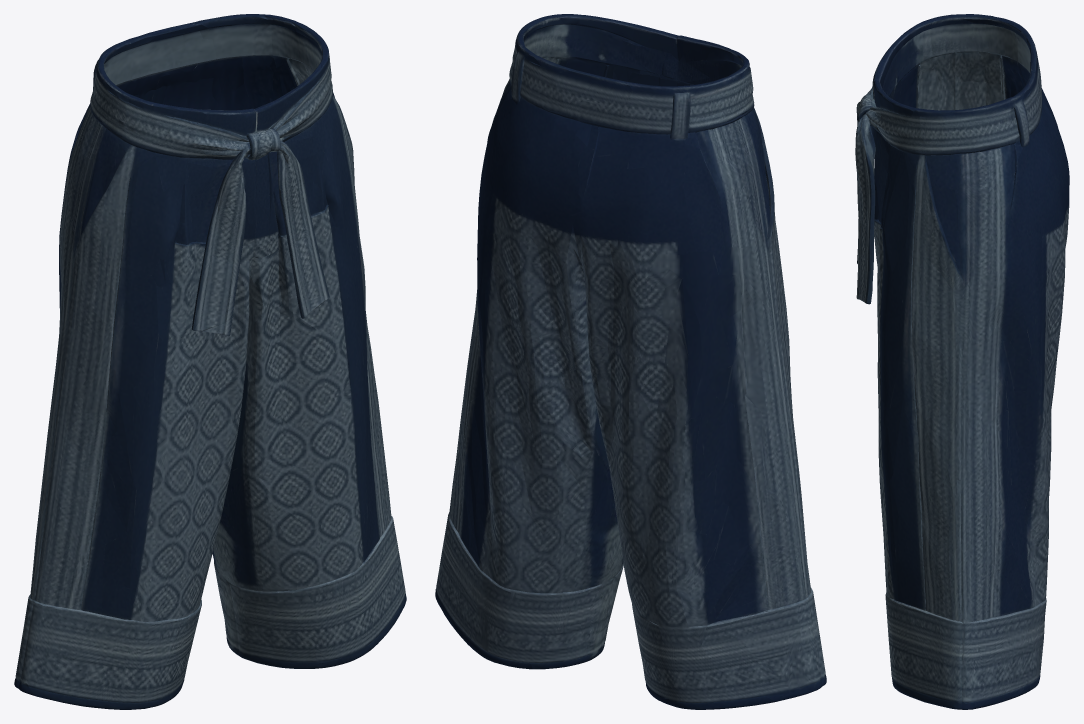
File: Indigo Wrap Pants_Import0001.fbx
3 renders of one model, left to right at view 1: azimuth 30°, elevation 25°; view 2: azimuth 150°, elevation 25°; view 3: azimuth 270°, elevation 25°, orthographic. The views are drawn at different scales.
Visible parts, largest first — view 1: output_unwrapped; view 2: output_unwrapped; view 3: output_unwrapped.
Part boxes in pixels (box(x1,y1,x2,y2)): output_unwrapped: box(14, 14, 406, 709); output_unwrapped: box(435, 14, 826, 709); output_unwrapped: box(855, 14, 1069, 709).
Bounding box in the file's own units: 125 × 190 × 63.43.
1 material, 1 textured.
